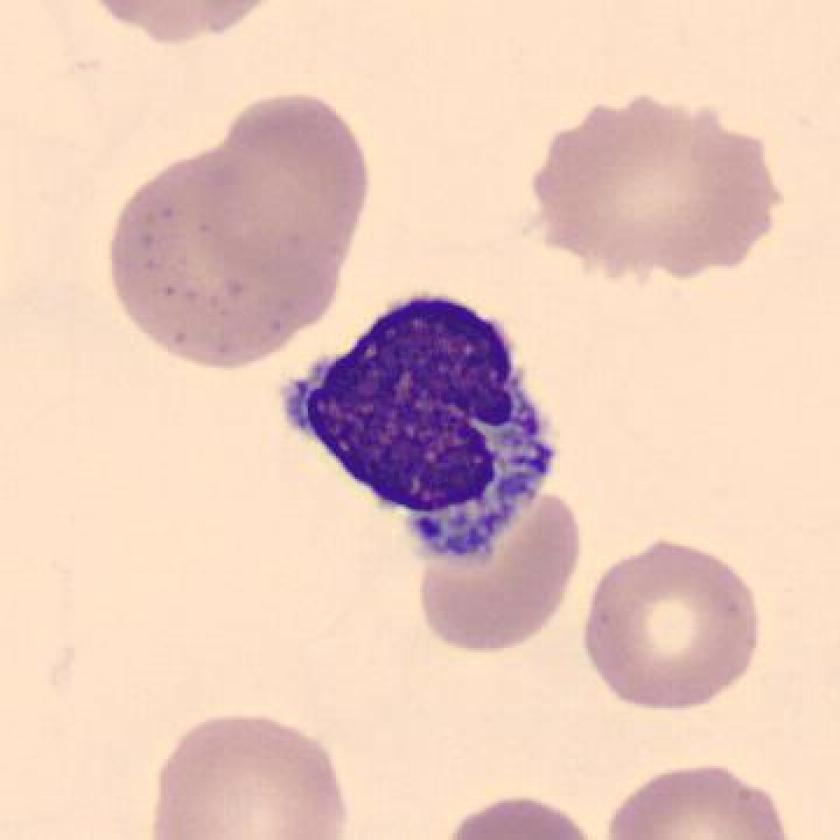lymphocyte: (265, 270, 570, 571)
